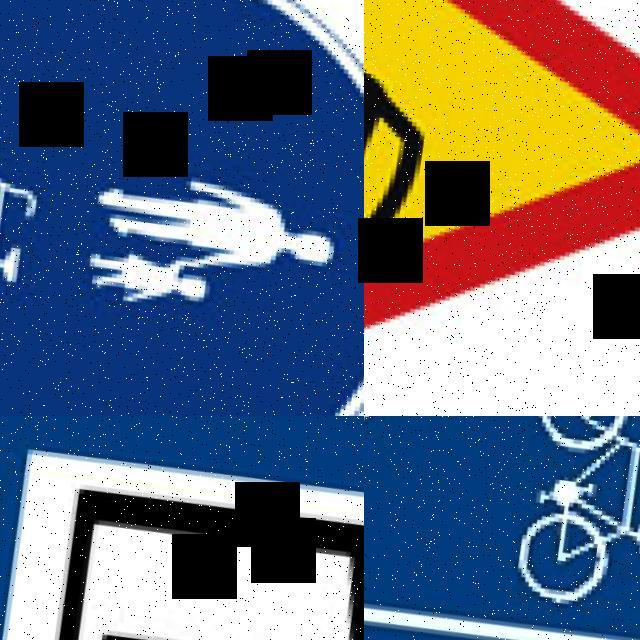161: (364, 0, 640, 416)
91: (0, 0, 364, 416)
99: (364, 416, 640, 640)
Bus stop: (0, 416, 364, 640)
Dangerous shoulder: (364, 0, 640, 416)
two way traffic: (364, 0, 640, 416)
